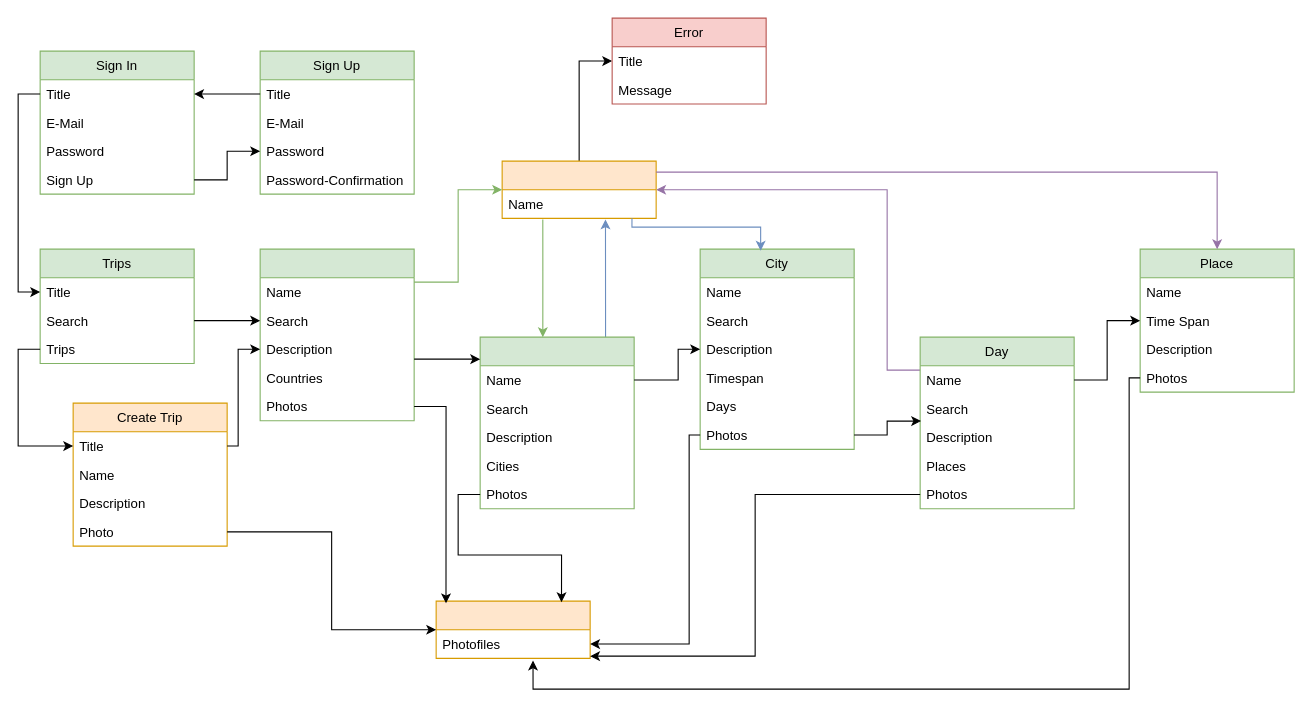
Image size: 1312x707. Some labels were removed from this diagram. Each missing label, with the box of its shape:
Choose: (501, 160, 656, 218)
Country: (479, 336, 634, 509)
Trip: (259, 248, 414, 421)
Upload Photos: (435, 600, 590, 658)
